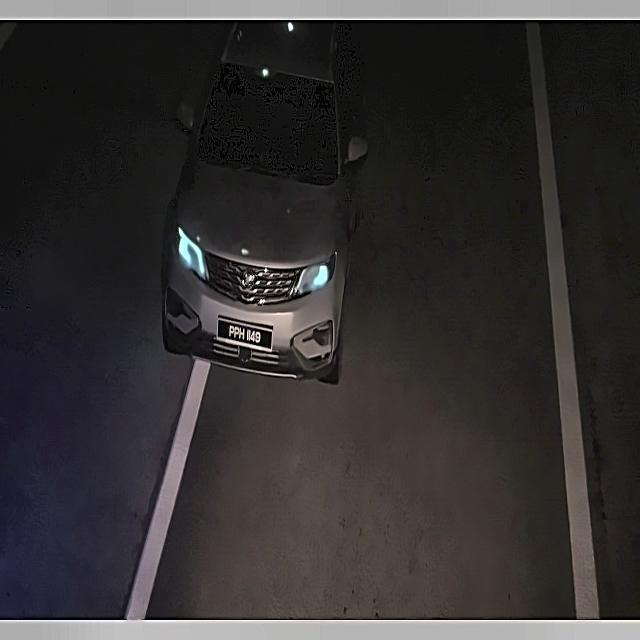car: (212, 306, 277, 358)
